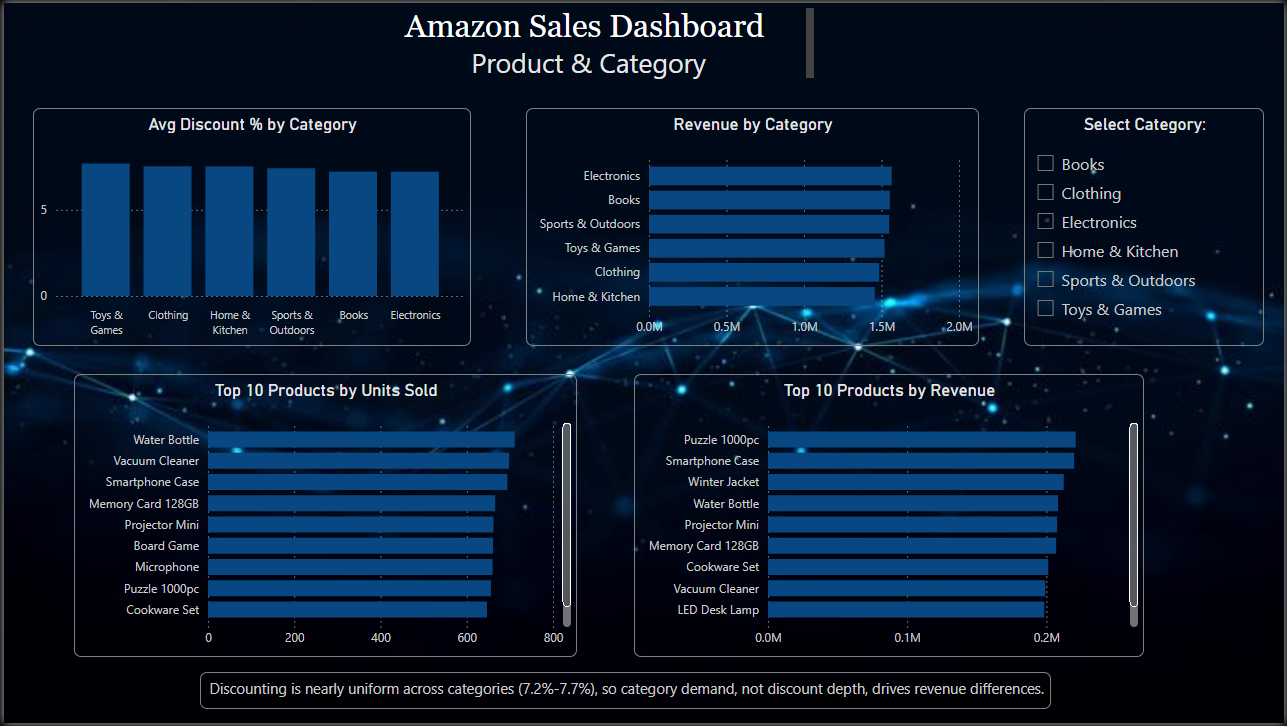

Layout of this report page (visuals, bound fields, positions):
{"tool":"powerbi","page":{"name":"Product & Category","canvas":[1280,720],"ordinal":1},"visuals":[{"type":"textbox","box":[362.8,0,452.5,80.6],"z":0},{"type":"clusteredBarChart","title":"Revenue by Category","fields":{"Category":["amazon_sales_clean.Category"],"Y":["amazon_sales_clean.Total Revenue"]},"box":[522.1,104.8,452.5,237.9],"z":1000},{"type":"clusteredBarChart","title":"Top 10 Products by Revenue","fields":{"Category":["amazon_sales_clean.ProductName"],"Y":["amazon_sales_clean.Total Revenue"]},"box":[629.9,370.9,510,283.2],"z":2000},{"type":"clusteredBarChart","title":"Top 10 Products by Units Sold","fields":{"Category":["amazon_sales_clean.ProductName"],"Y":["amazon_sales_clean.Total Units Sold"]},"box":[69.5,370.9,503.9,283.2],"z":3000},{"type":"clusteredColumnChart","fields":{"Category":["amazon_sales_clean.Category"],"Y":["amazon_sales_clean.Avg Discount %"]},"box":[29.2,104.8,437.4,237.9],"z":4000},{"type":"slicer","title":"Select Category:","fields":{"Values":["amazon_sales_clean.Category"]},"box":[1020,104.8,239.9,237.9],"z":5000},{"type":"textbox","box":[195.5,669.2,851.7,36.3],"z":6000}]}

Visuals, with their boxes in screenshot pixels (x1, y1, x2, y2), scaled from the page's 1280x720 canvas onto the 1287x726 screenshot:
textbox: l=365, t=0, r=820, b=81
"Revenue by Category" clusteredBarChart: l=525, t=106, r=980, b=346
"Top 10 Products by Revenue" clusteredBarChart: l=633, t=374, r=1146, b=660
"Top 10 Products by Units Sold" clusteredBarChart: l=70, t=374, r=577, b=660
clusteredColumnChart - amazon_sales_clean.Category x amazon_sales_clean.Avg Discount %: l=29, t=106, r=469, b=346
"Select Category:" slicer: l=1026, t=106, r=1267, b=346
textbox: l=197, t=675, r=1053, b=711
